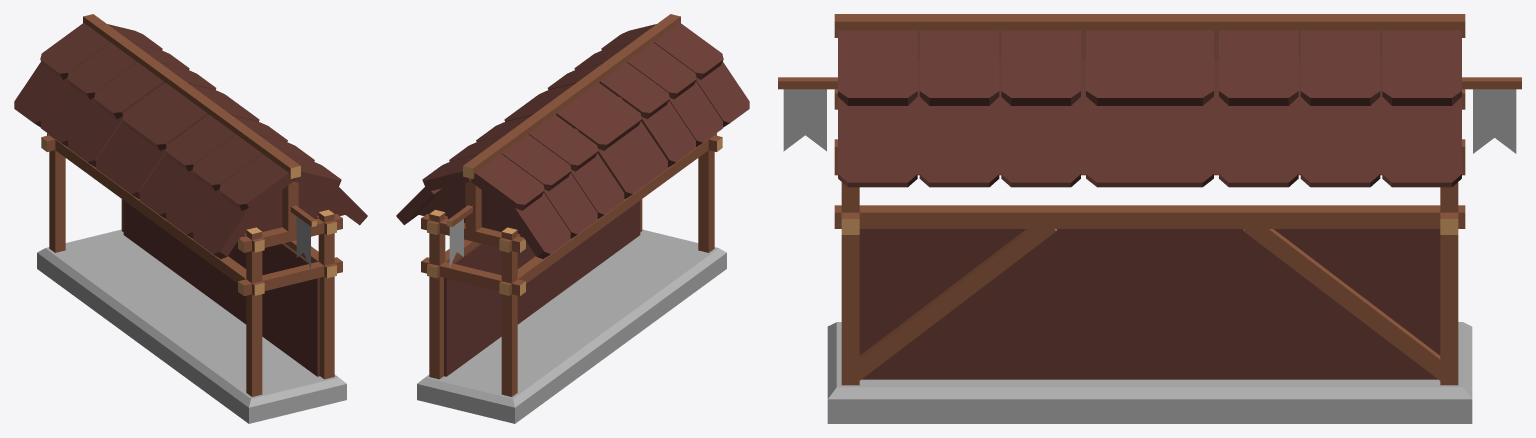
Rendered from Training place.fbx.
3 views of the same model, side by side, from view 1: azimuth 30°, elevation 25°; view 2: azimuth 150°, elevation 25°; view 3: azimuth 270°, elevation 25° (orthographic). The views are drawn at different scales.
Parts seen in each view (by area): view 1: First_Floor, Flag_1; view 2: First_Floor, FLag_2; view 3: First_Floor, FLag_2, Flag_1.
Part boxes in pixels (left/top/right/bottom): First_Floor: left=14, top=14, right=367, bottom=423; Flag_1: left=296, top=216, right=310, bottom=268; First_Floor: left=396, top=14, right=749, bottom=423; FLag_2: left=449, top=219, right=463, bottom=267; First_Floor: left=778, top=14, right=1521, bottom=423; FLag_2: left=1473, top=89, right=1516, bottom=153; Flag_1: left=783, top=89, right=826, bottom=151.
Bounding box in the file's own units: 1.5 × 2.25 × 4.1.
2 materials, 1 textured.
